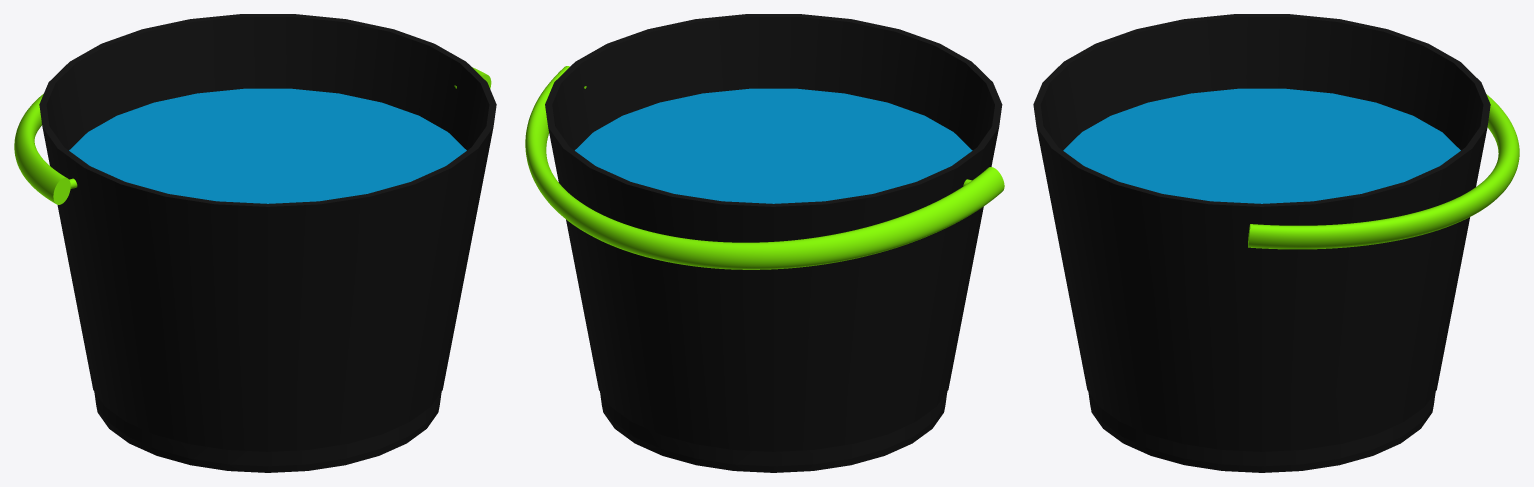
File: seau plein.fbx
3 views of the same model, side by side, from view 1: azimuth 30°, elevation 25°; view 2: azimuth 150°, elevation 25°; view 3: azimuth 270°, elevation 25° (orthographic).
Parts seen in each view (by area): view 1: pot, eau; view 2: pot, eau; view 3: pot, eau.
Part boxes in pixels (x1,y1,x2,y2): pot: [14, 14, 496, 472]; eau: [69, 88, 466, 203]; pot: [525, 14, 1004, 472]; eau: [575, 88, 972, 203]; pot: [1033, 14, 1519, 472]; eau: [1063, 88, 1460, 203].
Size of the model in its own units: 35.38 by 22.28 by 33.89.
